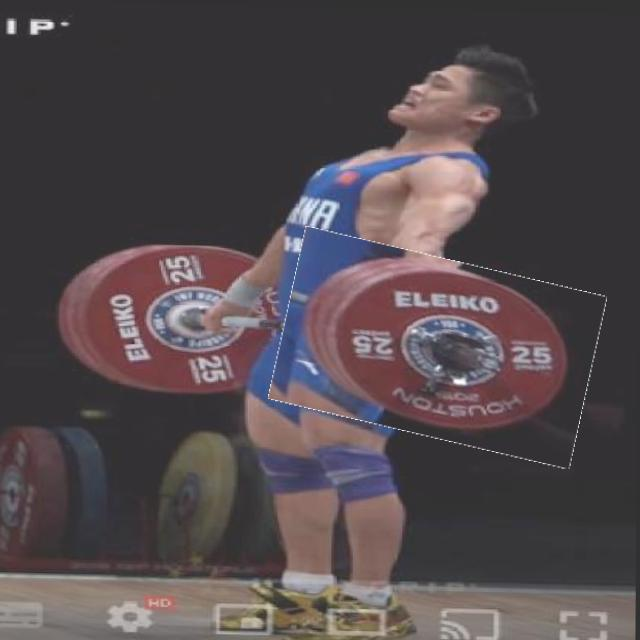barbell: (277, 240, 601, 453)
